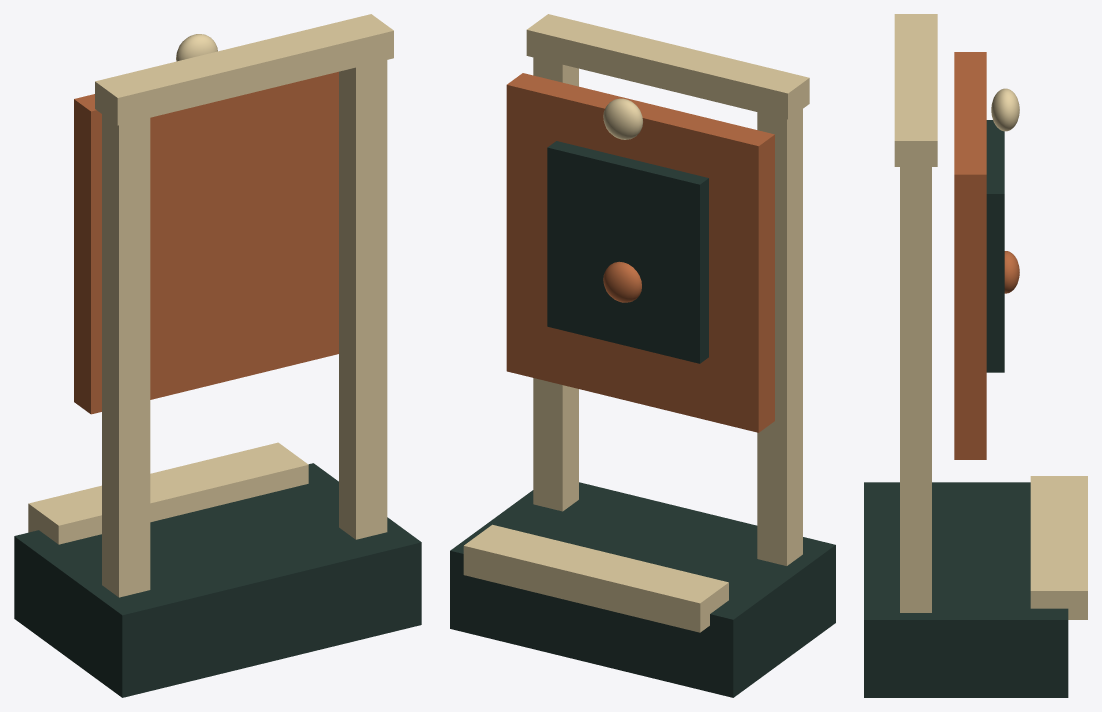
File: fanstand.copper-gulls-old.glb
The picture shows the model from 3 angles, left to right: view 1: azimuth 30°, elevation 25°; view 2: azimuth 150°, elevation 25°; view 3: azimuth 270°, elevation 25°; orthographic projection. The views are drawn at different scales.
Visible parts, largest first — view 1: support plinth; view 2: support plinth; view 3: support plinth.
Part boxes in pixels (x1,y1,x2,y2): support plinth: [14, 14, 421, 697]; support plinth: [450, 14, 835, 697]; support plinth: [864, 14, 1087, 697].
Size of the model in its own units: 0.91 by 1.7 by 0.625.
